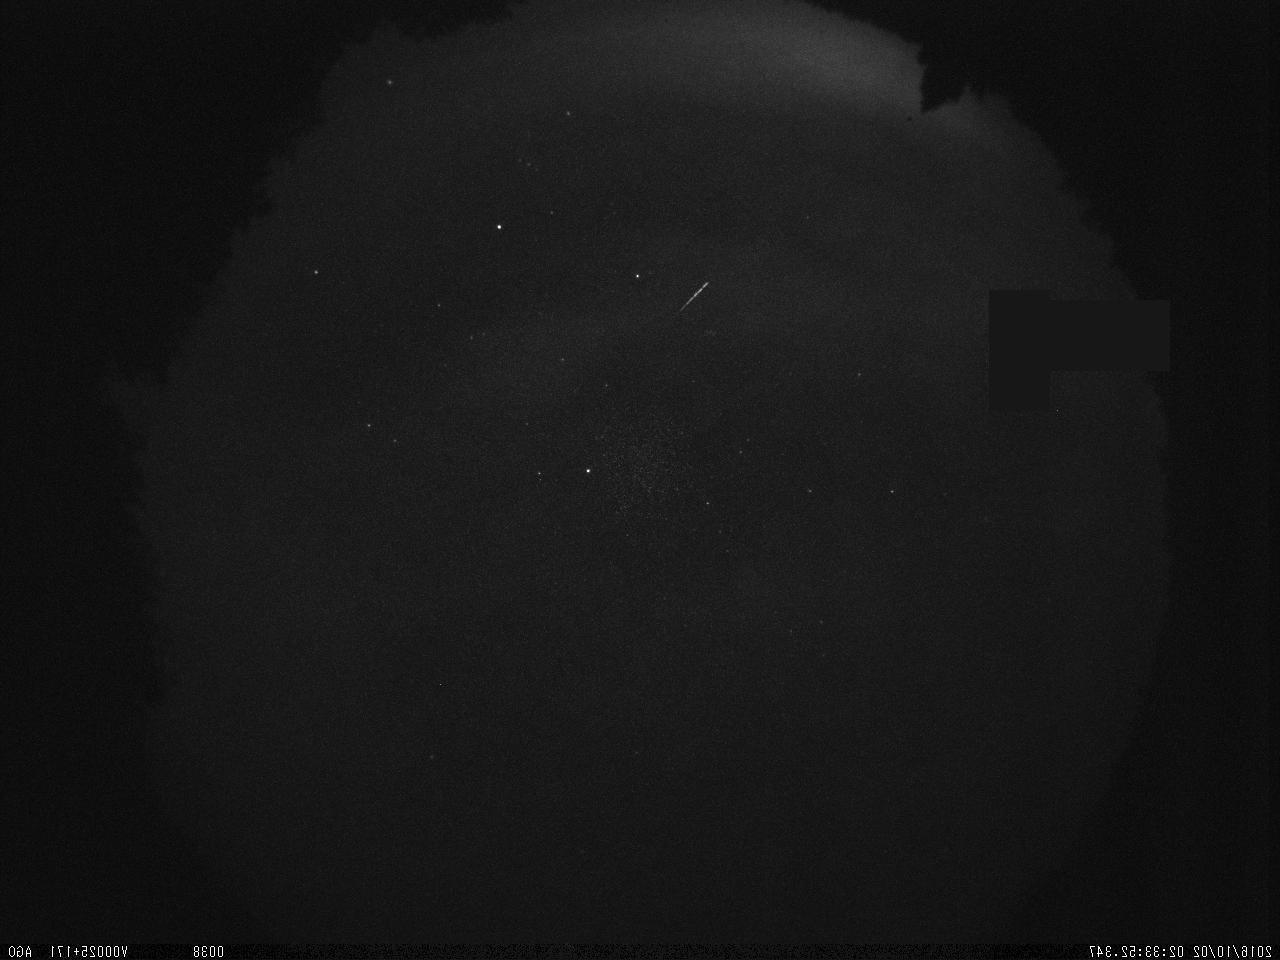meteor: (669, 274, 721, 319)
